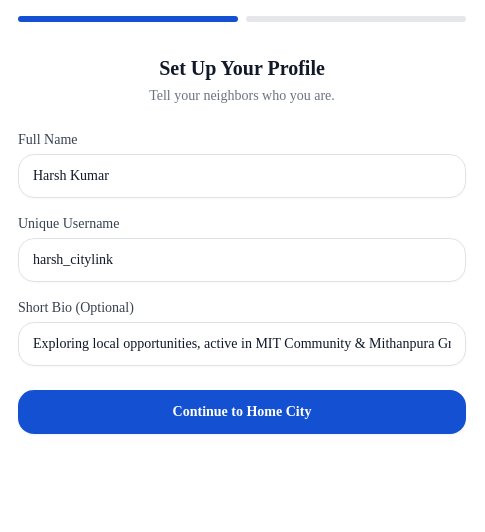
Scenario: Onboarding Wizard Multi-Step Flow › progresses through Step 1 (Identity) to Step 2 (Home City)
Expected: the heading "Set Up Your Profile" is shown, [159, 57, 325, 79]
Expected: the field labelled "Full Name" is shown, [18, 154, 466, 198]
Click the button "Continue to Home City".
click(242, 412)  # box [18, 390, 466, 434]
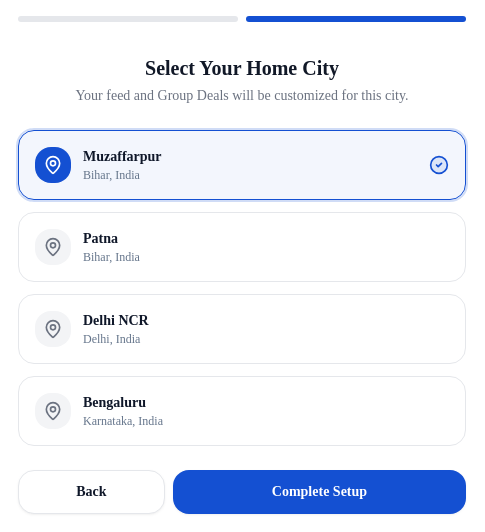
Now the heading "Select Your Home City" is shown, box [145, 57, 339, 79]
